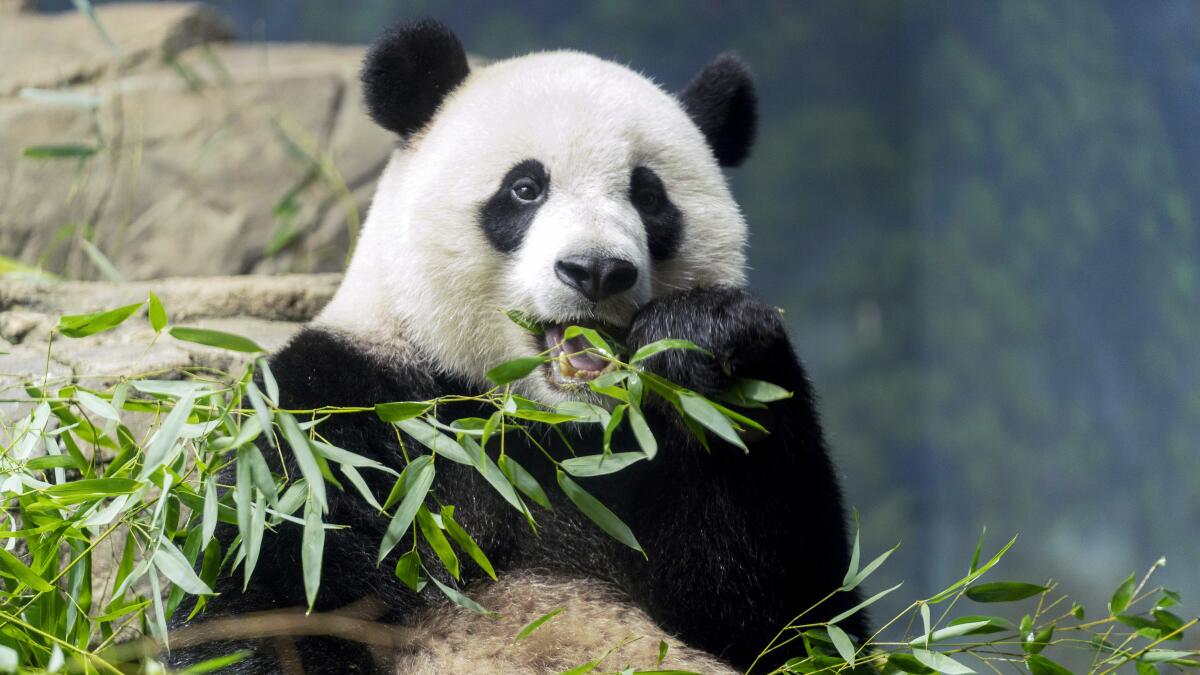Giant panda: (355, 15, 764, 431)
